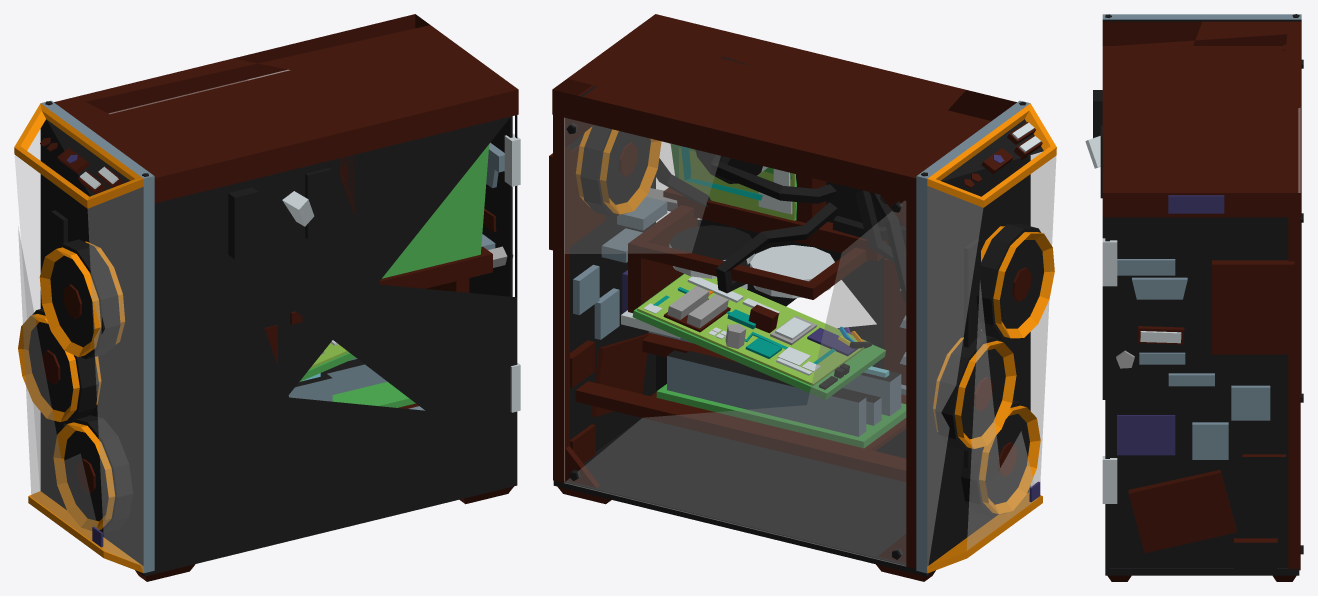
The model's file is GamingComputerBroken.fbx.
3 views of the same model, side by side, from view 1: azimuth 30°, elevation 25°; view 2: azimuth 150°, elevation 25°; view 3: azimuth 270°, elevation 25° (orthographic). The views are drawn at different scales.
Visible parts, largest first — view 1: group1851977708, group706968164, group549538436, group997898928, group1882511964, group1403192981, group614062749, group1799644813, group1179872976, group952295781, group1247630253, group358629412 (+8 smaller); view 2: group1867655503, group706968164, group358629412, group549538436, group997898928, group1586564780, group148538432, group614062749, group1882511964, group1179872976, group1207655705, group2083473735 (+39 smaller); view 3: group706968164, group1179872976, group335831164, group1800416953, group2083473735, group997898928, group1033487155, group1693732898, group676590036, group358629412, group172225094, group761930540 (+11 smaller).
Boxes of the visible parts, x1,y1,x2,y2 form: group1851977708: (154,115,517,569); group706968164: (54,14,518,203); group549538436: (14,103,143,571); group997898928: (40,100,154,573); group1882511964: (39,239,124,358); group1403192981: (53,415,132,532); group614062749: (18,308,101,423); group1799644813: (382,144,489,278); group1179872976: (469,116,512,296); group952295781: (379,246,492,288); group1247630253: (228,187,258,259); group358629412: (137,481,517,576); group1867655503: (564,117,905,566); group706968164: (552,14,1016,203); group358629412: (553,418,933,576); group549538436: (927,103,1056,570); group997898928: (916,100,1030,573); group1586564780: (575,381,906,481); group148538432: (667,350,866,436); group614062749: (933,332,1016,450); group1882511964: (976,224,1054,340); group1179872976: (570,86,655,451); group1207655705: (576,125,661,216); group2083473735: (553,115,569,482); group706968164: (1102,21,1301,217); group1179872976: (1110,217,1288,567); group335831164: (1212,260,1294,354); group1800416953: (1128,469,1236,553); group2083473735: (1288,217,1300,570); group997898928: (1102,14,1301,399); group1033487155: (1117,415,1175,455); group1693732898: (1234,538,1277,571); group676590036: (1231,385,1270,420); group358629412: (1105,568,1299,575); group172225094: (1242,454,1285,485); group761930540: (1192,422,1228,459).
Size of the model in its own units: 194 by 180 by 89.99.
